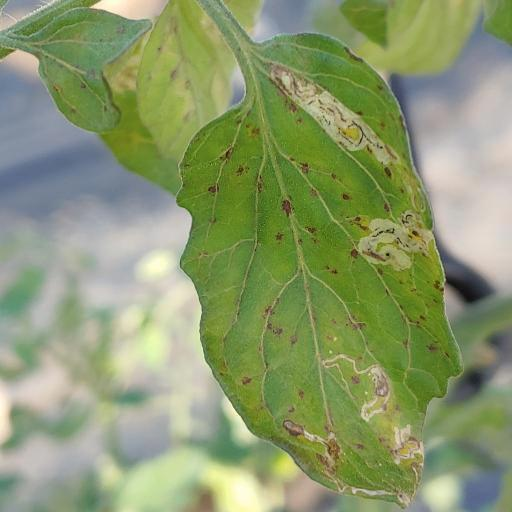Leaf Miner: (174, 33, 463, 509)
